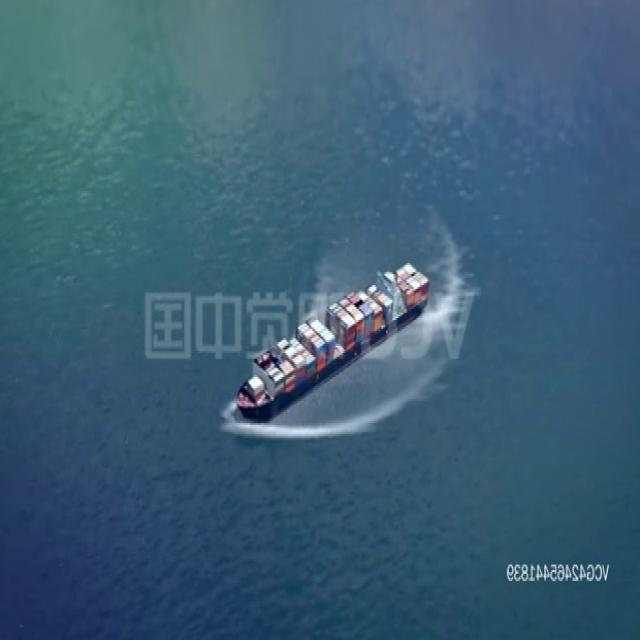cargoship: (238, 262, 430, 424)
